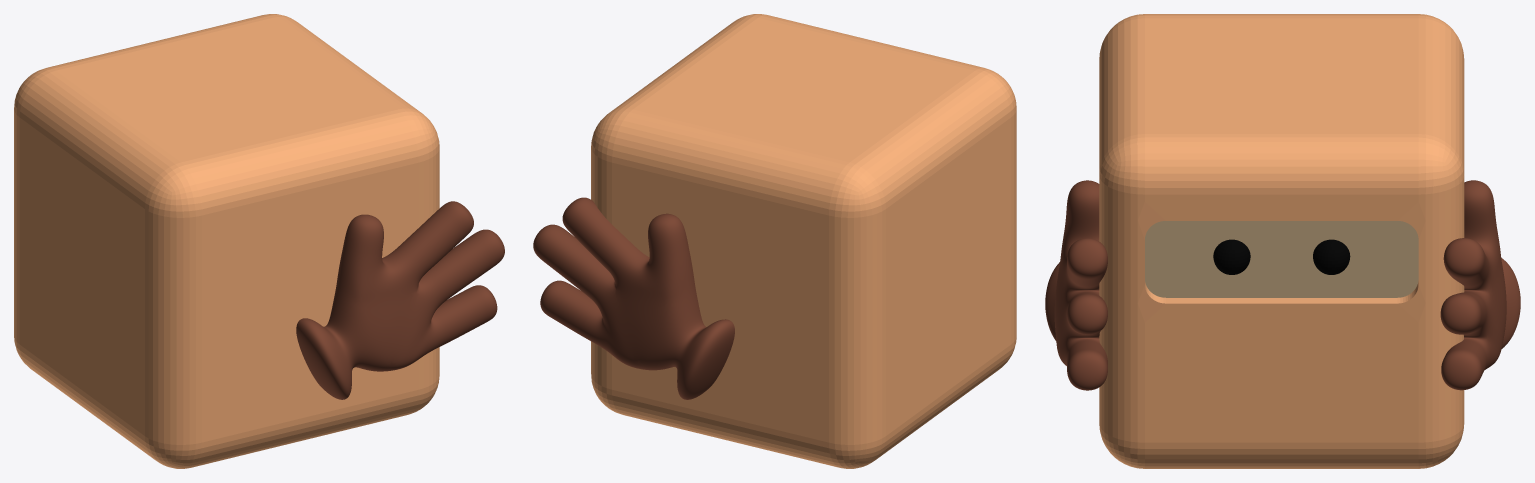
The model's file is giant.fbx.
3 renders of one model, left to right at view 1: azimuth 30°, elevation 25°; view 2: azimuth 150°, elevation 25°; view 3: azimuth 270°, elevation 25°, orthographic. The views are drawn at different scales.
Parts seen in each view (by area): view 1: Cube.004; view 2: Cube.004; view 3: Cube.004.
Boxes of the visible parts, bbox=[...] form: Cube.004: bbox=[14, 14, 504, 468]; Cube.004: bbox=[533, 14, 1016, 468]; Cube.004: bbox=[1045, 14, 1520, 468].
Bounding box in the file's own units: 41.03 × 35.9 × 46.77.
